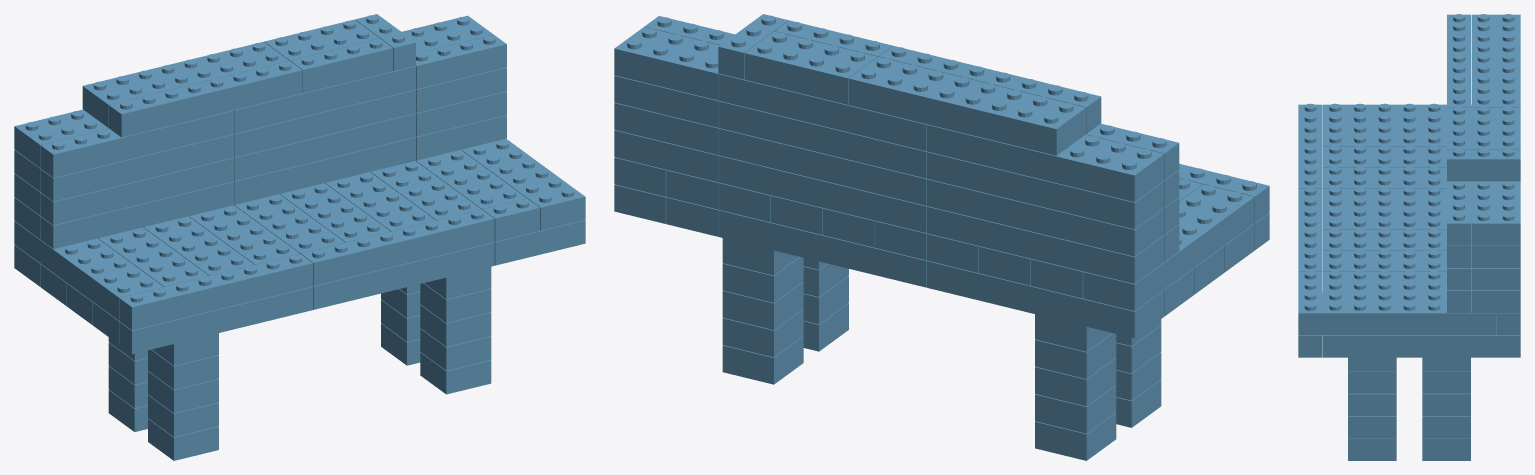
File: 192_piano_L2.glb
The picture shows the model from 3 angles, left to right: view 1: azimuth 30°, elevation 25°; view 2: azimuth 150°, elevation 25°; view 3: azimuth 270°, elevation 25°; orthographic projection. The views are drawn at different scales.
Bounding box in the file's own units: 19.98 × 13.13 × 8.98.
